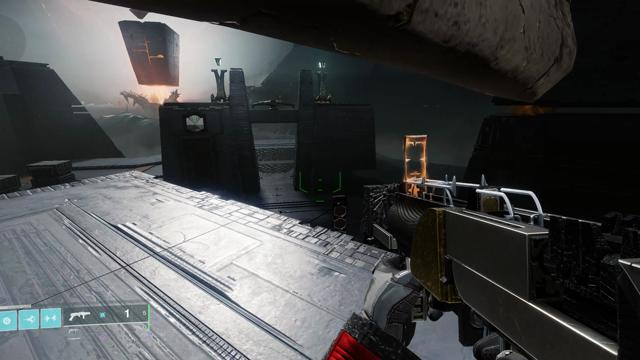commune: (186, 115, 205, 132)
